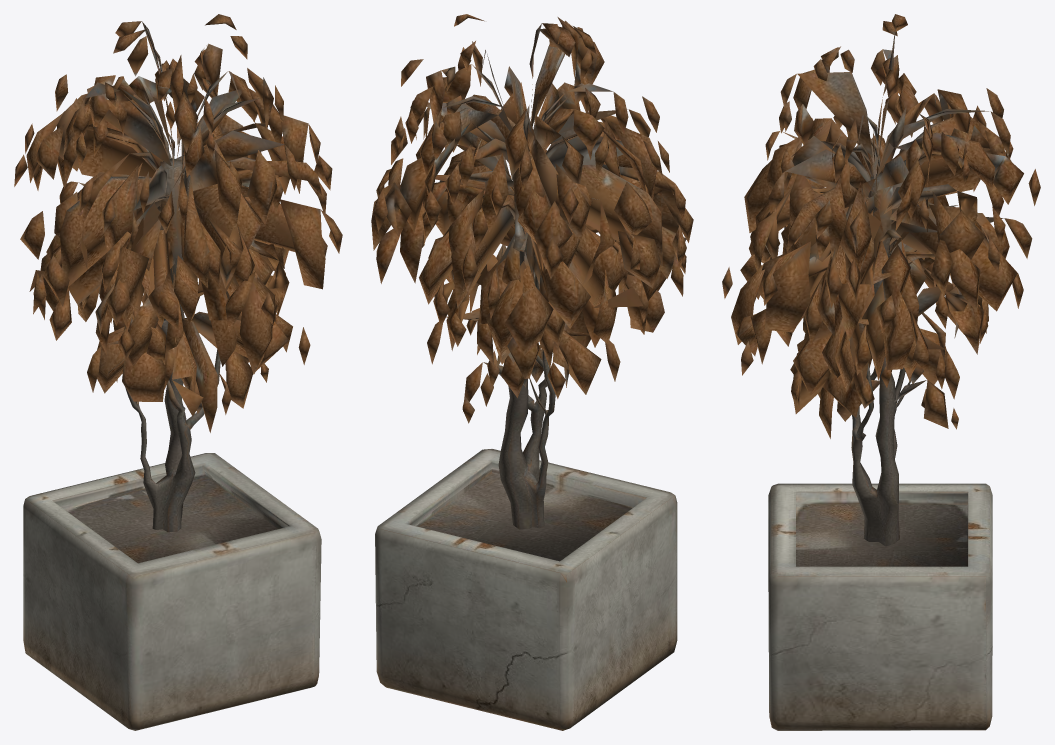
Rendered from office-planter-tree.glb.
The picture shows the model from 3 angles, left to right: view 1: azimuth 30°, elevation 25°; view 2: azimuth 150°, elevation 25°; view 3: azimuth 270°, elevation 25°; orthographic projection.
Parts seen in each view (by area): view 1: planter-tree; view 2: planter-tree; view 3: planter-tree.
Boxes of the visible parts, box(x1,y1,x2,y2) form: planter-tree: box(14, 14, 342, 730); planter-tree: box(371, 14, 693, 730); planter-tree: box(722, 14, 1040, 730).
Bounding box in the file's own units: 1.04 × 2.2 × 0.9693.
Materials: 1 (1 with a texture image).
